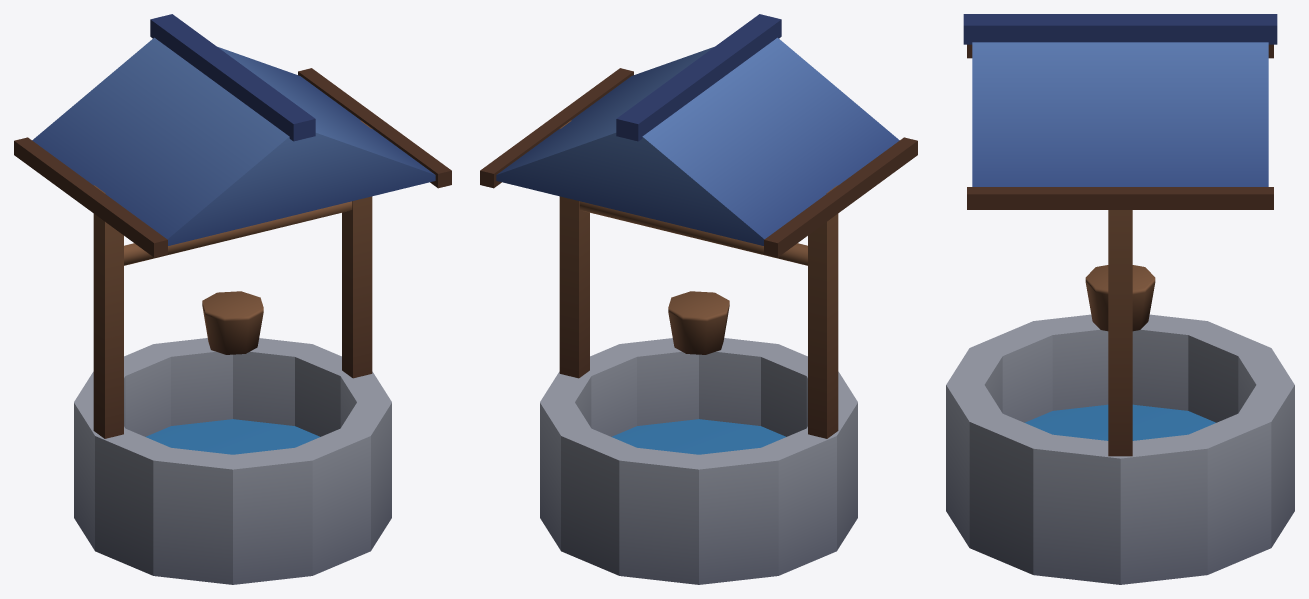
The model's file is well.glb.
3 views of the same model, side by side, from view 1: azimuth 30°, elevation 25°; view 2: azimuth 150°, elevation 25°; view 3: azimuth 270°, elevation 25° (orthographic). The views are drawn at different scales.
Visible parts, largest first — view 1: well; view 2: well; view 3: well.
Part boxes in pixels (<box>): well: <box>14,14,451,584</box>; well: <box>480,14,917,584</box>; well: <box>946,14,1294,584</box>.
Bounding box in the file's own units: 2.16 × 3.11 × 2.
